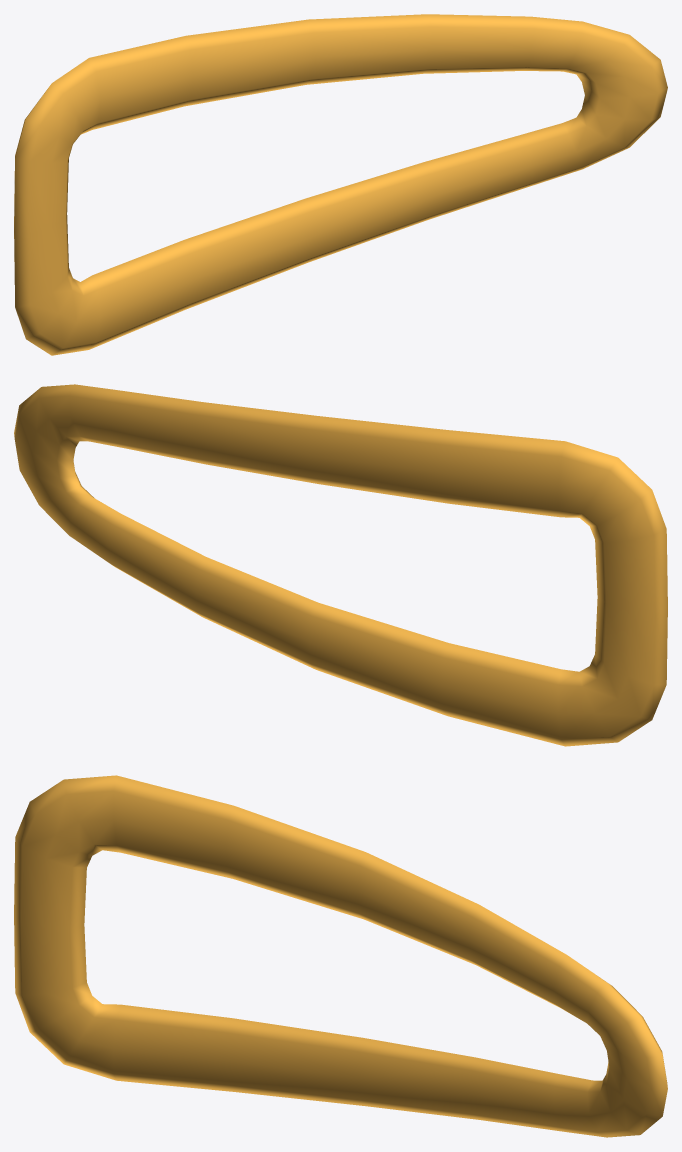
File: kami_hairpine.dae
The picture shows the model from 3 angles, top to bottom: view 1: azimuth 30°, elevation 25°; view 2: azimuth 150°, elevation 25°; view 3: azimuth 330°, elevation 25°; orthographic projection. The views are drawn at different scales.
Parts seen in each view (by area): view 1: o_acs_head_hairpin_00_0; view 2: o_acs_head_hairpin_00_0; view 3: o_acs_head_hairpin_00_0.
Boxes of the visible parts, left/top/right/bottom form: o_acs_head_hairpin_00_0: left=14, top=14, right=667, bottom=355; o_acs_head_hairpin_00_0: left=14, top=384, right=667, bottom=746; o_acs_head_hairpin_00_0: left=14, top=775, right=667, bottom=1137.
Size of the model in its own units: 0.0333 by 0.00412 by 0.0145.
